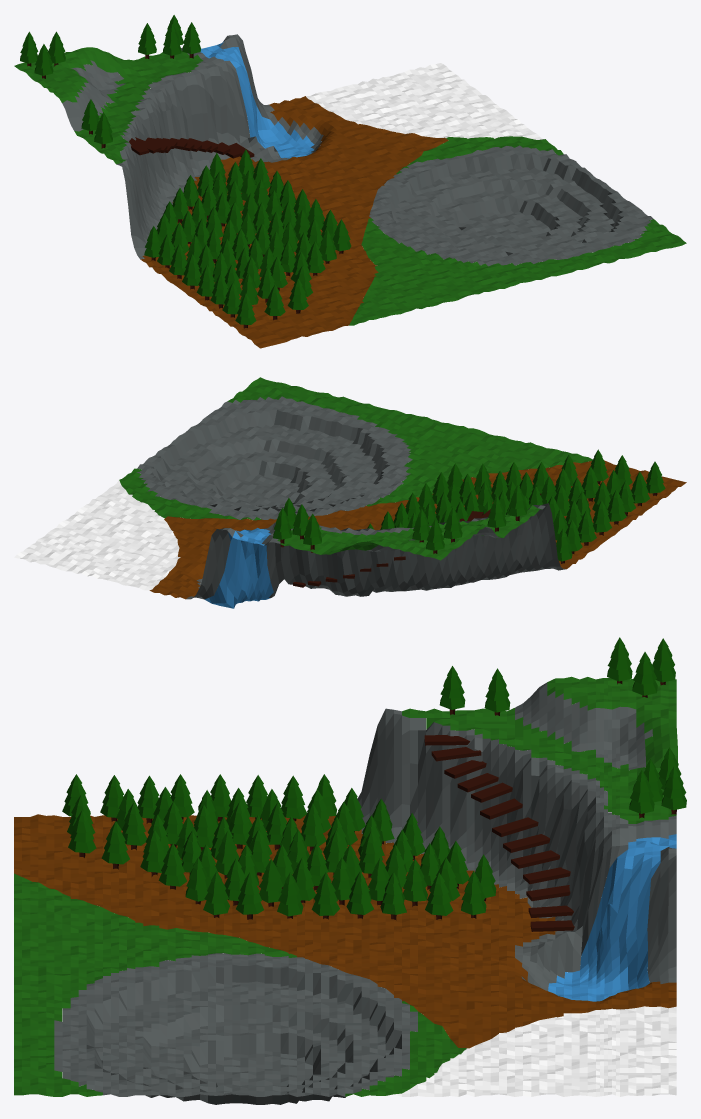
The model's file is camp.glb.
3 renders of one model, top to bottom at view 1: azimuth 30°, elevation 25°; view 2: azimuth 150°, elevation 25°; view 3: azimuth 270°, elevation 25°, orthographic. The views are drawn at different scales.
Visible parts, largest first — view 1: Plane; view 2: Plane, Circle.074, Circle.075, Circle.011, Circle.003, Circle.008, Circle.073, Circle.072, Circle.069, Circle.070, Circle.002, Circle.010 (+4 smaller); view 3: Plane, Circle.028, Circle.027, Circle.063, Circle.054, Circle.061, Circle.074, Circle.044, Circle.073, Circle.052, Circle.060, Circle.077 (+14 smaller).
Part boxes in pixels (bbox=[...]): Plane: bbox=[14, 34, 686, 348]; Plane: bbox=[14, 377, 686, 608]; Circle.074: bbox=[273, 508, 291, 547]; Circle.075: bbox=[303, 513, 321, 552]; Circle.011: bbox=[646, 461, 665, 495]; Circle.003: bbox=[593, 500, 611, 535]; Circle.008: bbox=[607, 489, 626, 525]; Circle.073: bbox=[508, 485, 527, 521]; Circle.072: bbox=[487, 496, 506, 531]; Circle.069: bbox=[426, 519, 444, 553]; Circle.070: bbox=[443, 507, 462, 542]; Circle.002: bbox=[577, 510, 596, 545]; Circle.010: bbox=[631, 471, 650, 506]; Plane: bbox=[14, 676, 677, 1104]; Circle.028: bbox=[101, 821, 129, 869]; Circle.027: bbox=[68, 810, 96, 857]; Circle.063: bbox=[311, 872, 339, 919]; Circle.054: bbox=[425, 872, 453, 919]; Circle.061: bbox=[236, 872, 263, 919]; Circle.074: bbox=[661, 766, 686, 814]; Circle.044: bbox=[158, 843, 186, 889]; Circle.073: bbox=[439, 666, 465, 714]; Circle.052: bbox=[346, 871, 373, 918]; Circle.060: bbox=[203, 871, 229, 917]; Circle.077: bbox=[629, 770, 654, 818].
Bounding box in the file's own units: 40.28 × 15.05 × 40.62.
